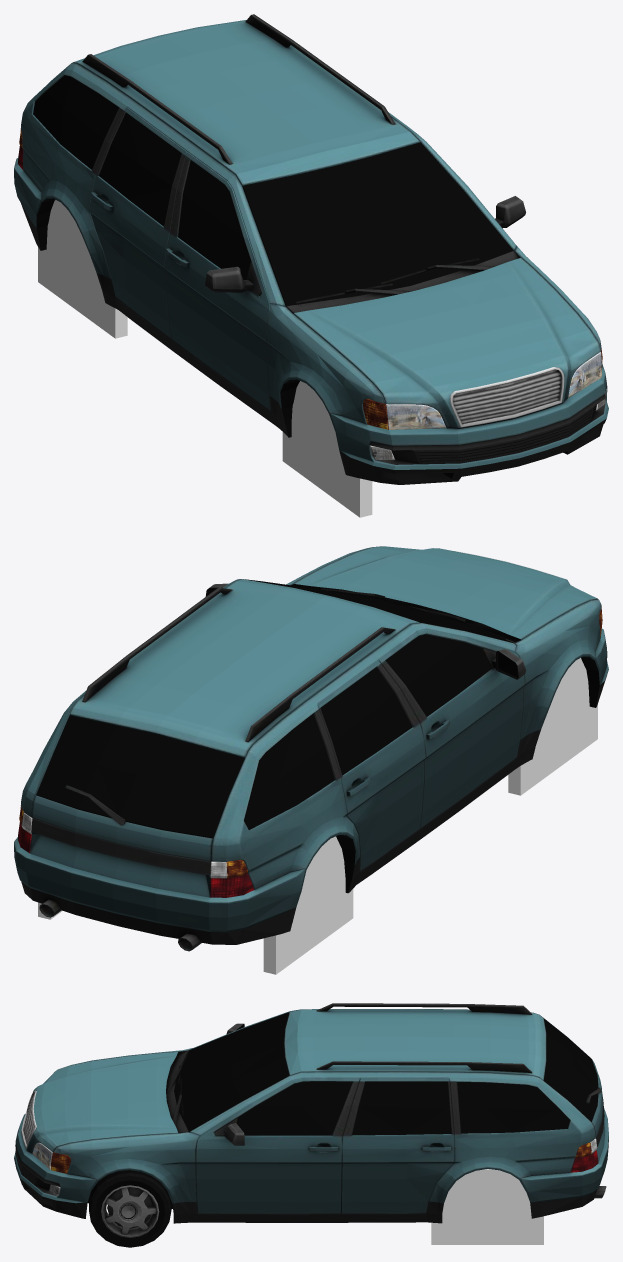
The model's file is wagon.glb.
The picture shows the model from 3 angles, top to bottom: view 1: azimuth 30°, elevation 25°; view 2: azimuth 150°, elevation 25°; view 3: azimuth 270°, elevation 25°; orthographic projection. The views are drawn at different scales.
Parts seen in each view (by area): view 1: body, wheelFrontRight, wheelBackRight; view 2: body, wheelBackRight, wheelFrontRight; view 3: body, wheelBackLeft, wheelFrontLeft.
Part boxes in pixels (bbox=[...]): body: bbox=[14, 14, 608, 484]; wheelFrontRight: bbox=[282, 381, 372, 517]; wheelBackRight: bbox=[38, 200, 127, 338]; body: bbox=[14, 546, 608, 951]; wheelBackRight: bbox=[263, 836, 353, 974]; wheelFrontRight: bbox=[508, 658, 597, 795]; body: bbox=[14, 1003, 608, 1223]; wheelBackLeft: bbox=[431, 1169, 543, 1244]; wheelFrontLeft: bbox=[89, 1170, 171, 1247].
Size of the model in its own units: 1.95 by 1.38 by 4.38.
5 materials, 3 textured.
